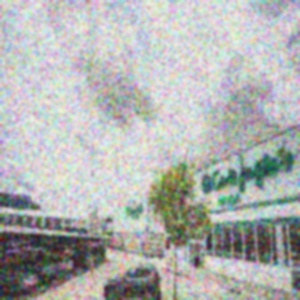corte_ingles: (6, 111, 300, 242)
